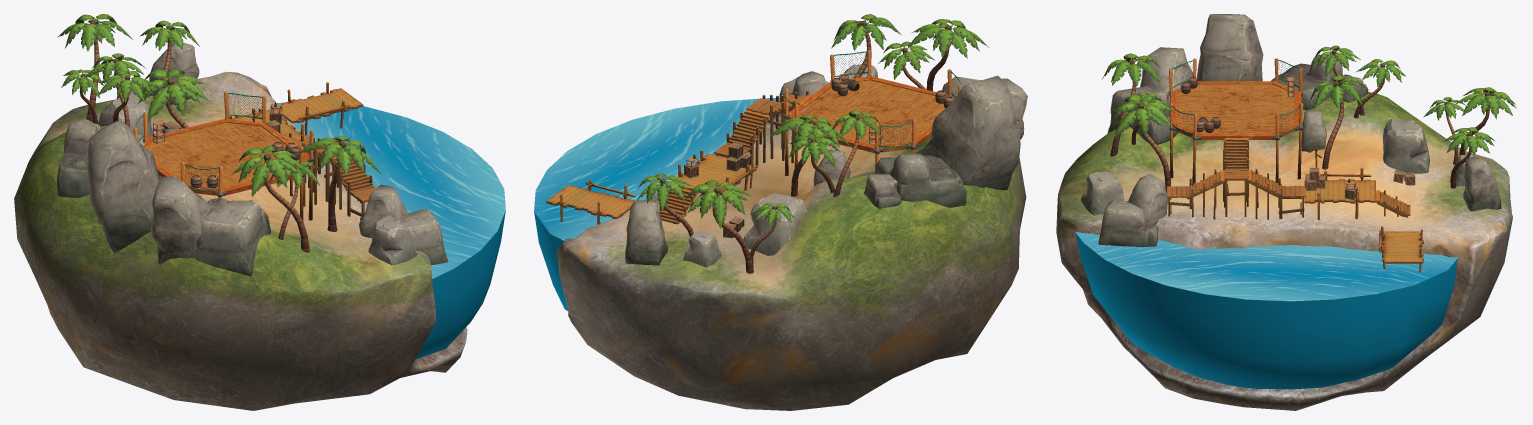
The model's file is FullPlatform-art.fbx.
3 views of the same model, side by side, from view 1: azimuth 30°, elevation 25°; view 2: azimuth 150°, elevation 25°; view 3: azimuth 270°, elevation 25° (orthographic). The views are drawn at different scales.
Visible parts, largest first — view 1: Sphere, Sphere.001, Cube.019, PLATDORM, Plane.004, Cube.012, Cube.010, L.001, Plane.008, Plane.014, Cube.013, Plane.007 (+15 smaller); view 2: Sphere, Sphere.001, Cube.019, PLATDORM, Cube.010, Cube.018, Cube.011, Plane.008, L.001, Plane.021, Plane.007, Plane.005 (+16 smaller); view 3: Sphere, Sphere.001, PLATDORM, Cube.019, Cube.011, Plane.012, L.001, Plane.021, Cube.018, Cube.012, Plane.008, MERDİVEN (+17 smaller).
Boxes of the visible parts, left/top/right/bottom form: Sphere: left=14, top=71, right=467, bottom=410; Sphere.001: left=276, top=102, right=505, bottom=358; Cube.019: left=87, top=121, right=159, bottom=253; PLATDORM: left=142, top=118, right=309, bottom=195; Plane.004: left=195, top=198, right=270, bottom=276; Cube.012: left=150, top=176, right=209, bottom=264; Cube.010: left=57, top=119, right=98, bottom=197; L.001: left=133, top=91, right=313, bottom=220; Plane.008: left=271, top=82, right=363, bottom=134; Plane.014: left=138, top=69, right=208, bottom=120; Cube.013: left=368, top=215, right=417, bottom=265; Plane.007: left=231, top=146, right=307, bottom=196; Sphere: left=557, top=116, right=1026, bottom=410; Sphere.001: left=534, top=98, right=779, bottom=311; Cube.019: left=916, top=75, right=1020, bottom=190; PLATDORM: left=788, top=76, right=948, bottom=152; Cube.010: left=875, top=153, right=966, bottom=207; Cube.018: left=625, top=200, right=668, bottom=265; Cube.011: left=743, top=193, right=807, bottom=255; Plane.008: left=546, top=179, right=635, bottom=224; L.001: left=784, top=50, right=961, bottom=187; Plane.021: left=675, top=150, right=757, bottom=203; Plane.007: left=908, top=19, right=989, bottom=58; Plane.005: left=683, top=180, right=751, bottom=228; Sphere: left=1056, top=92, right=1512, bottom=410; Sphere.001: left=1075, top=232, right=1458, bottom=389; PLATDORM: left=1171, top=81, right=1300, bottom=139; Cube.019: left=1196, top=14, right=1263, bottom=81; Cube.011: left=1383, top=119, right=1429, bottom=173; Plane.012: left=1098, top=199, right=1158, bottom=247; L.001: left=1169, top=58, right=1303, bottom=185; Plane.021: left=1304, top=167, right=1375, bottom=220; Cube.018: left=1463, top=157, right=1501, bottom=211; Cube.012: left=1140, top=47, right=1193, bottom=104; Plane.008: left=1378, top=226, right=1423, bottom=272; MERDİVEN: left=1223, top=138, right=1249, bottom=216.
Size of the model in its own units: 3814 by 2559 by 4062.
